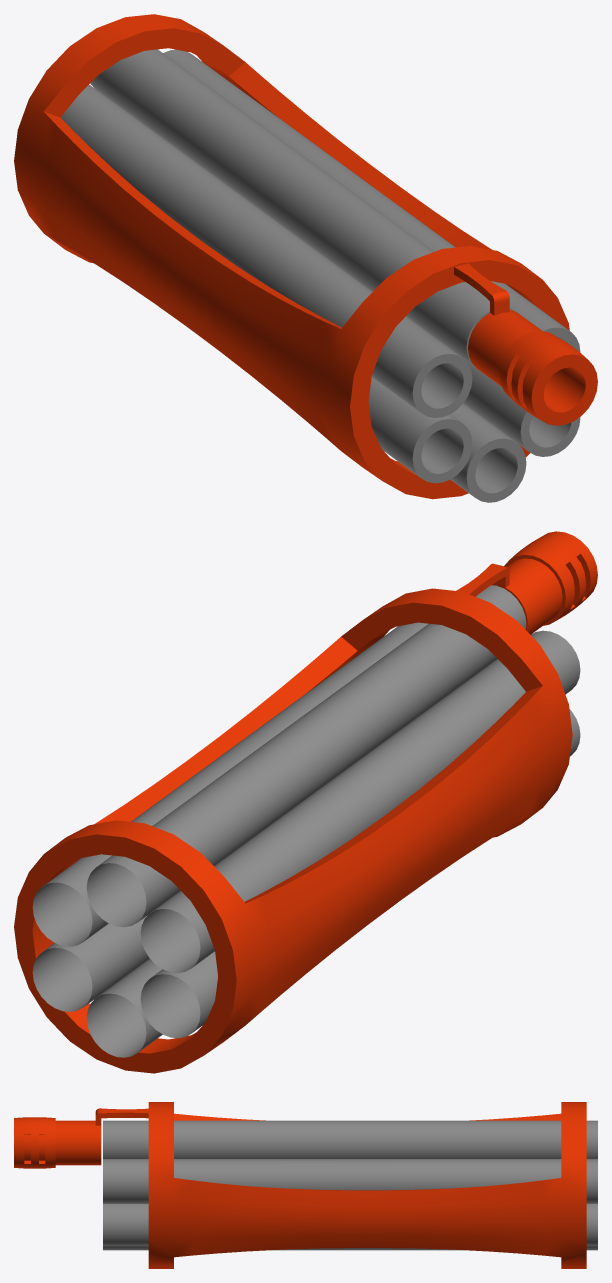
File: Arm Cannon.fbx
3 renders of one model, top to bottom at view 1: azimuth 30°, elevation 25°; view 2: azimuth 150°, elevation 25°; view 3: azimuth 270°, elevation 25°, orthographic. The views are drawn at different scales.
Visible parts, largest first — view 1: Barrels, Shield, Muzzle; view 2: Barrels, Shield, Muzzle; view 3: Shield, Barrels, Muzzle.
Part boxes in pixels (<box>): Barrels: <box>60,49,580,502</box>; Shield: <box>14,14,569,499</box>; Muzzle: <box>454,263,597,425</box>; Barrels: <box>32,585,580,1057</box>; Shield: <box>14,588,572,1073</box>; Muzzle: <box>456,531,597,634</box>; Shield: <box>148,1102,586,1268</box>; Barrels: <box>103,1120,597,1250</box>; Muzzle: <box>14,1108,148,1168</box>.
Bounding box in the file's own units: 0.2997 × 0.2843 × 0.9908.
